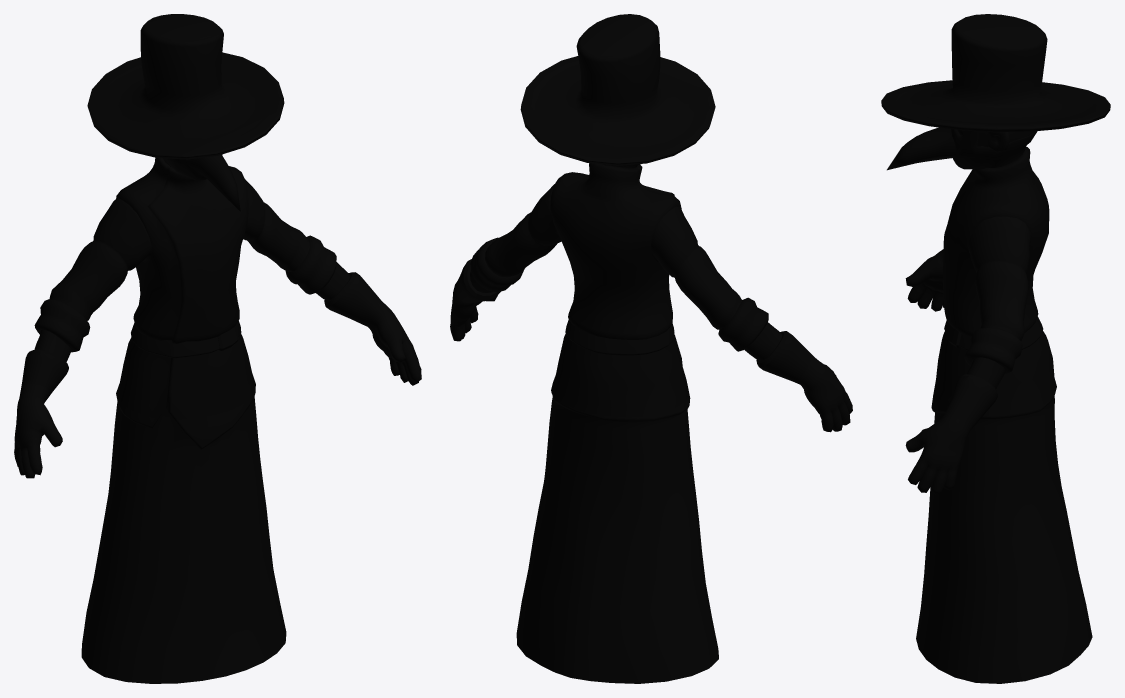
The model's file is alchemist.fbx.
The picture shows the model from 3 angles, left to right: view 1: azimuth 30°, elevation 25°; view 2: azimuth 150°, elevation 25°; view 3: azimuth 270°, elevation 25°; orthographic projection.
Visible parts, largest first — view 1: AlchemistGeo; view 2: AlchemistGeo; view 3: AlchemistGeo.
Boxes of the visible parts, x1,y1,x2,y2 form: AlchemistGeo: (14, 14, 421, 683); AlchemistGeo: (450, 14, 852, 683); AlchemistGeo: (881, 14, 1110, 683).
Bounding box in the file's own units: 94.98 × 143 × 48.53.
